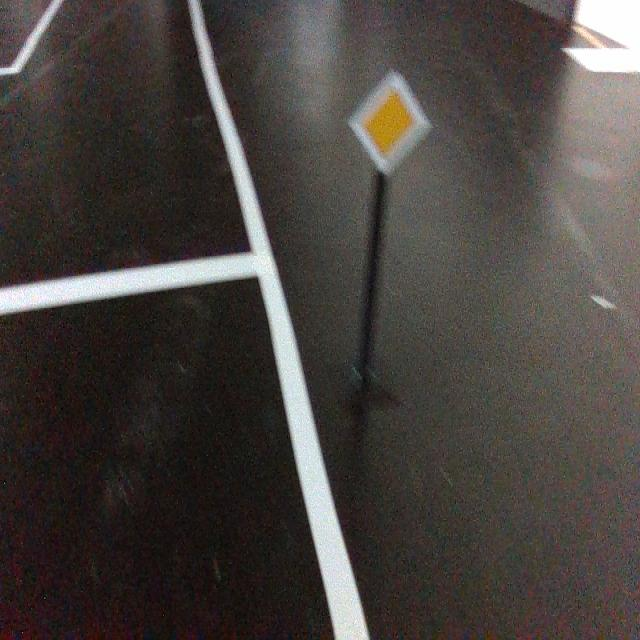priority-sign: (348, 69, 431, 180)
